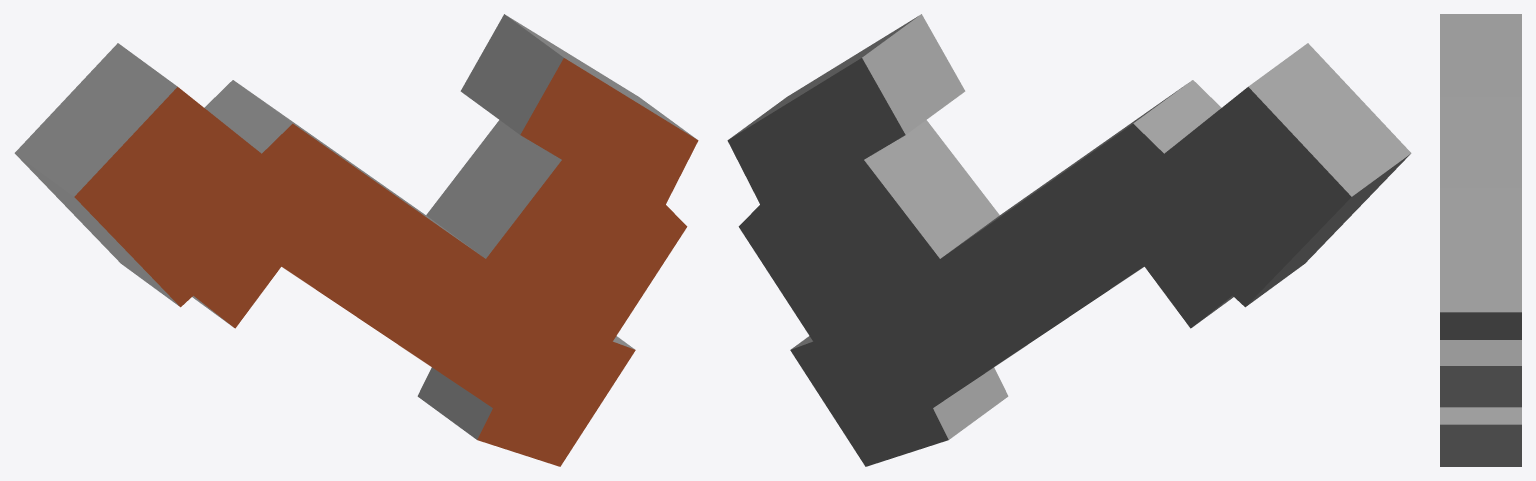
File: construction_3620_assumed_A_Casa_h6m.obj
3 renders of one model, left to right at view 1: azimuth 30°, elevation 25°; view 2: azimuth 150°, elevation 25°; view 3: azimuth 270°, elevation 25°, orthographic. The views are drawn at different scales.
Visible parts, largest first — view 1: construction_3620_assumed_A_Casa; view 2: construction_3620_assumed_A_Casa; view 3: construction_3620_assumed_A_Casa.
Boxes of the visible parts, x1,y1,x2,y2 form: construction_3620_assumed_A_Casa: (14,14,698,466); construction_3620_assumed_A_Casa: (727,14,1411,466); construction_3620_assumed_A_Casa: (1440,14,1521,466).
Size of the model in its own units: 36.19 by 26.24 by 6.
